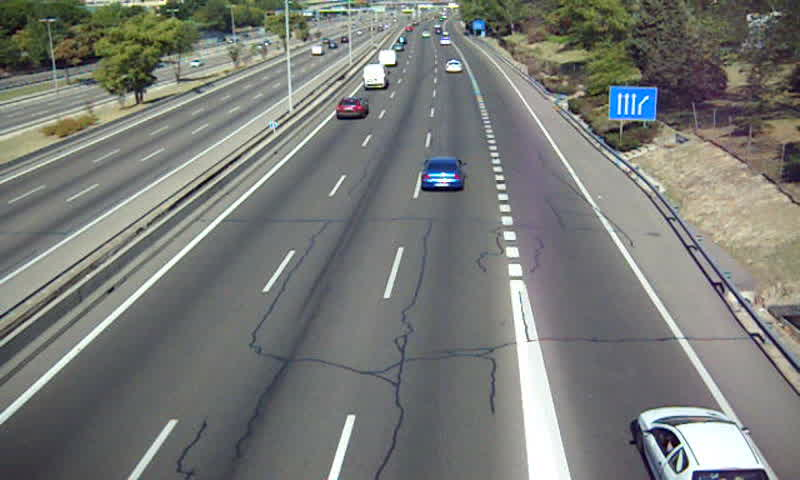car: (635, 407, 768, 480), (419, 156, 468, 192), (335, 96, 370, 119), (446, 61, 464, 74)
van: (362, 63, 392, 89), (379, 48, 396, 68)
